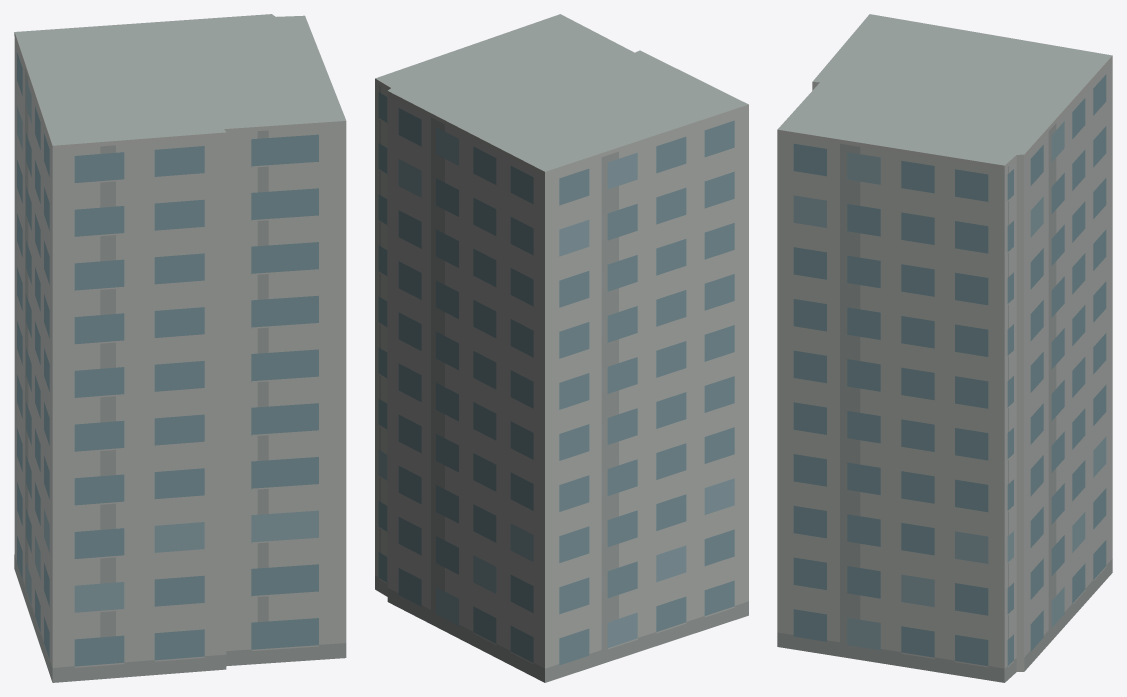
File: survey-upis-33023777.glb
3 renders of one model, left to right at view 1: azimuth 30°, elevation 25°; view 2: azimuth 150°, elevation 25°; view 3: azimuth 270°, elevation 25°, orthographic. The views are drawn at different scales.
Parts seen in each view (by area): view 1: survey-upis-33023777.tmp; view 2: survey-upis-33023777.tmp; view 3: survey-upis-33023777.tmp.
Part boxes in pixels (x1,y1,x2,y2): survey-upis-33023777.tmp: [14, 14, 346, 682]; survey-upis-33023777.tmp: [375, 14, 748, 682]; survey-upis-33023777.tmp: [777, 14, 1112, 682].
Size of the model in its own units: 19.19 by 30.5 by 17.93.
